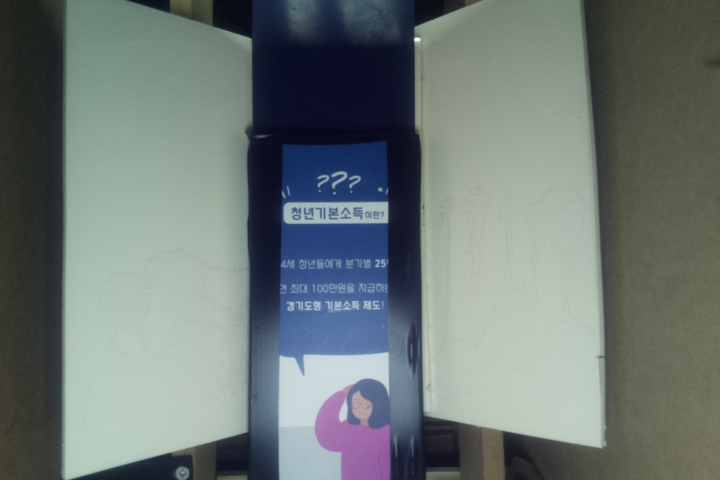book: (246, 128, 428, 480)
